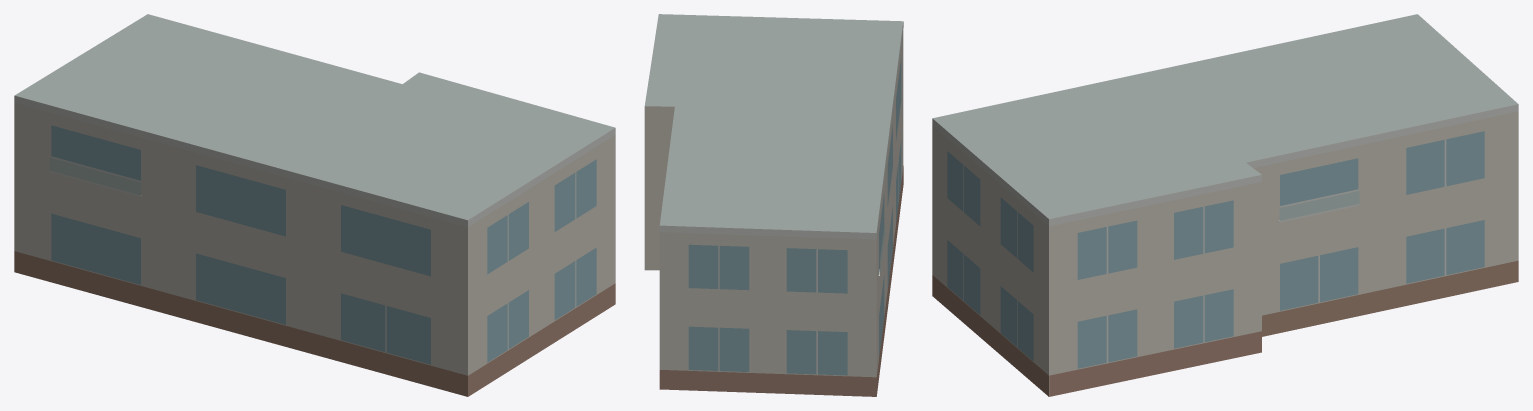
File: survey-upis-33037252.glb
The picture shows the model from 3 angles, left to right: view 1: azimuth 30°, elevation 25°; view 2: azimuth 150°, elevation 25°; view 3: azimuth 270°, elevation 25°; orthographic projection. The views are drawn at different scales.
Visible parts, largest first — view 1: survey-upis-33037252.tmp; view 2: survey-upis-33037252.tmp; view 3: survey-upis-33037252.tmp.
Part boxes in pixels (x1,y1,x2,y2): survey-upis-33037252.tmp: (14, 14, 615, 396); survey-upis-33037252.tmp: (644, 14, 903, 396); survey-upis-33037252.tmp: (932, 14, 1518, 396).
Size of the model in its own units: 15.12 by 6.1 by 18.25.
